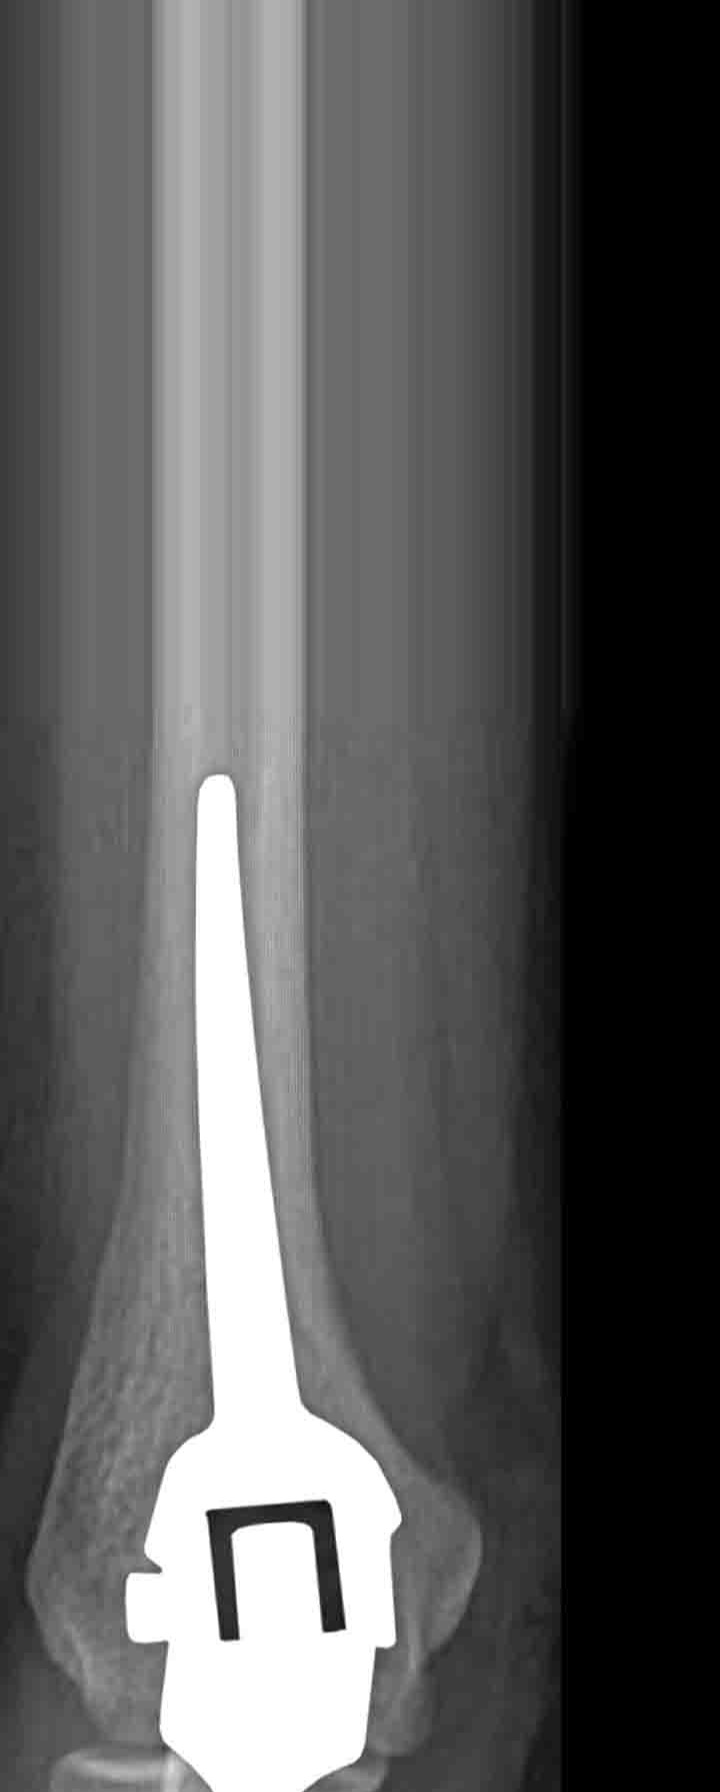Elbow - Osteonics - Stryker: (79, 754, 475, 1792)
